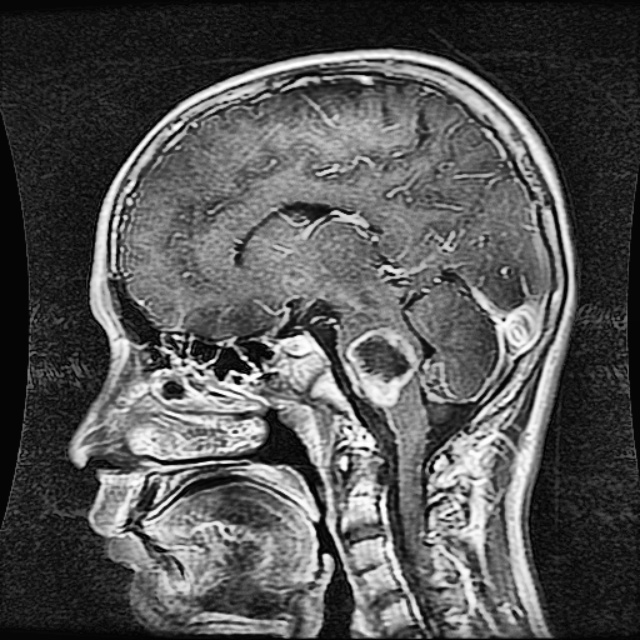Meningioma: (348, 330, 417, 407)
